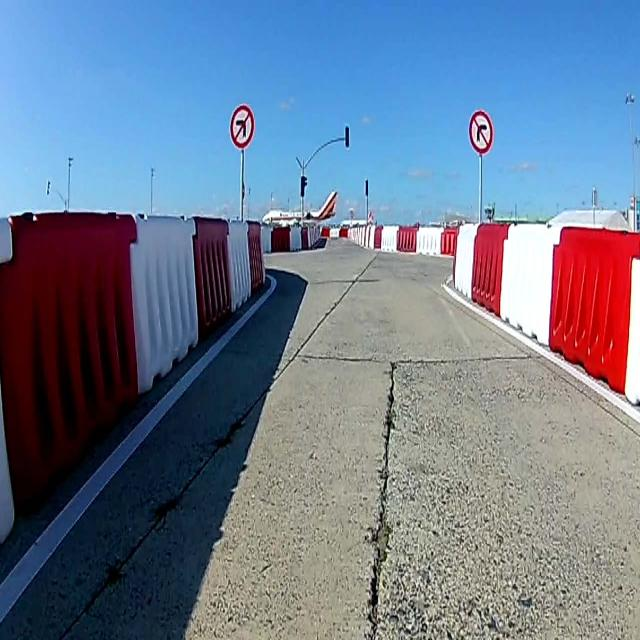sagadonulmez: (470, 109, 492, 153)
soladonulmez: (230, 107, 254, 148)
